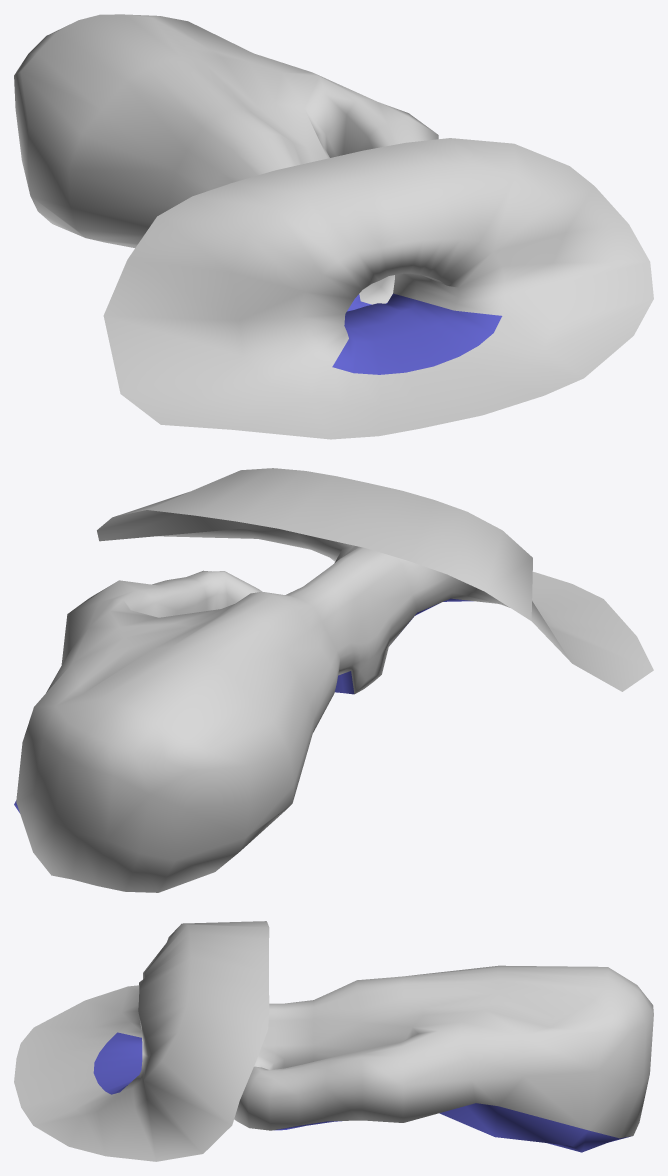
File: cave.fbx
3 renders of one model, top to bottom at view 1: azimuth 30°, elevation 25°; view 2: azimuth 150°, elevation 25°; view 3: azimuth 270°, elevation 25°, orthographic. The views are drawn at different scales.
Parts seen in each view (by area): view 1: Circle; view 2: Circle; view 3: Circle.
Part boxes in pixels (x1,y1,x2,y2): Circle: [14, 14, 653, 439]; Circle: [14, 468, 653, 892]; Circle: [14, 921, 653, 1161].
Bounding box in the file's own units: 1788 × 692 × 2408.
